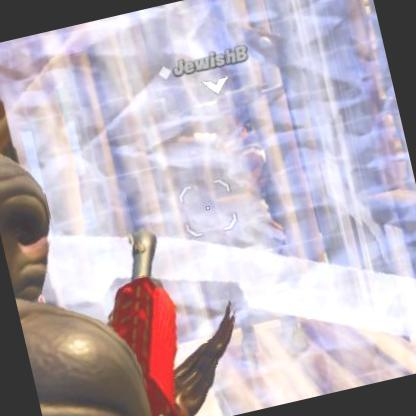person: (188, 110, 314, 323)
